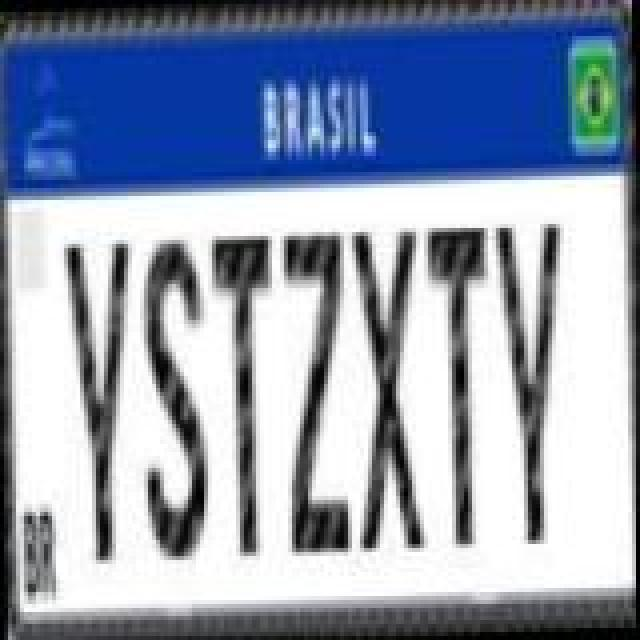S: (138, 228, 214, 560)
T: (208, 228, 280, 556), (424, 224, 496, 548)
X: (346, 220, 422, 556)
Y: (60, 232, 140, 568), (494, 216, 570, 544)
Z: (276, 224, 348, 556)
